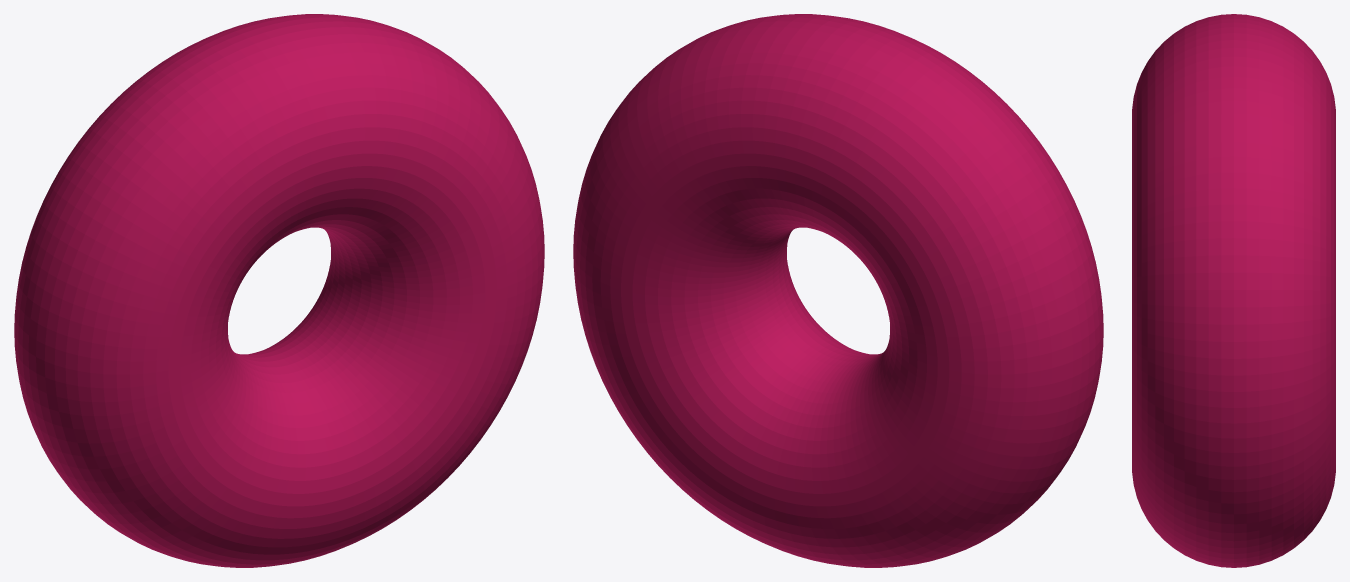
3 views of the same model, side by side, from view 1: azimuth 30°, elevation 25°; view 2: azimuth 150°, elevation 25°; view 3: azimuth 270°, elevation 25° (orthographic). The views are drawn at different scales.
Parts seen in each view (by area): view 1: world; view 2: world; view 3: world.
Boxes of the visible parts, <box> form: world: <box>14,14,544,567</box>; world: <box>573,14,1103,567</box>; world: <box>1132,14,1335,567</box>.
Size of the model in its own units: 26.4 by 26.4 by 9.71.
